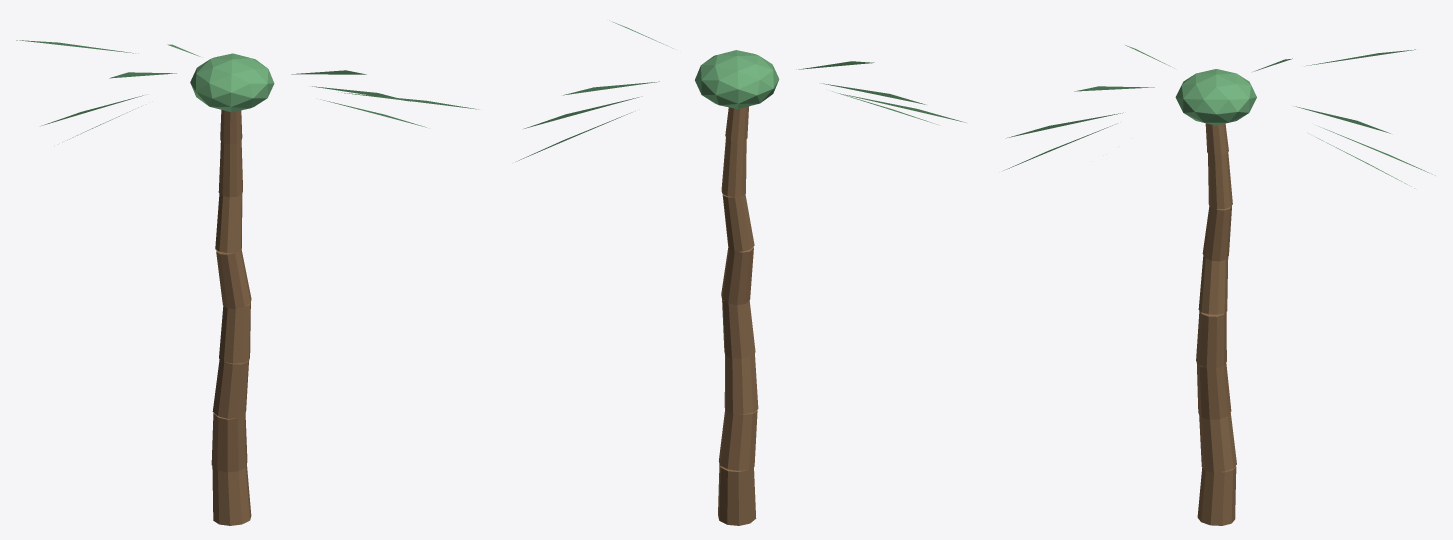
Rendered from tree_palm.glb.
The picture shows the model from 3 angles, left to right: view 1: azimuth 30°, elevation 25°; view 2: azimuth 150°, elevation 25°; view 3: azimuth 270°, elevation 25°; orthographic projection. The views are drawn at different scales.
Parts seen in each view (by area): view 1: trunk, foliage; view 2: trunk, foliage; view 3: trunk, foliage.
Part boxes in pixels (x1,y1,x2,y2): trunk: [211, 110, 251, 525]; foliage: [16, 40, 478, 142]; trunk: [718, 106, 758, 525]; foliage: [516, 20, 966, 161]; trunk: [1196, 123, 1236, 525]; foliage: [1003, 45, 1435, 188].
Bounding box in the file's own units: 6.83 × 7.82 × 7.02.
